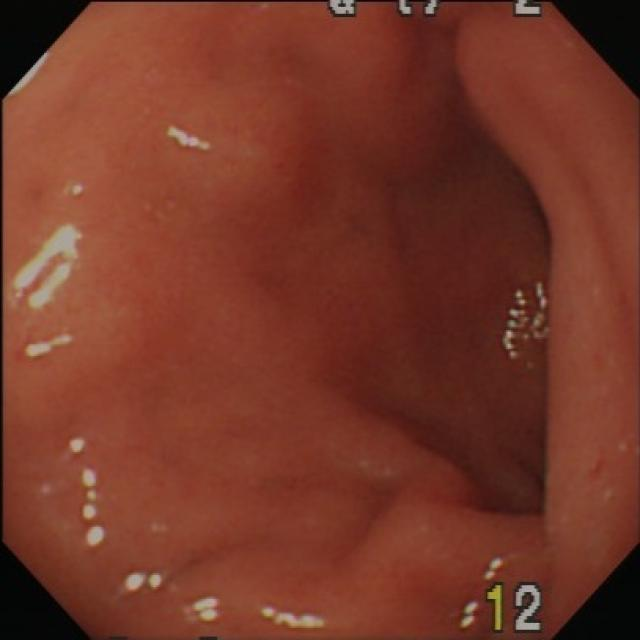S: (485, 581, 547, 636), (325, 3, 545, 18)
U: (9, 222, 84, 314), (67, 436, 110, 552), (499, 282, 553, 362), (6, 51, 53, 102), (261, 607, 330, 632), (25, 331, 78, 362), (166, 123, 217, 154), (184, 595, 225, 626), (122, 569, 165, 597), (482, 557, 509, 583), (460, 598, 481, 629), (63, 179, 85, 198)
